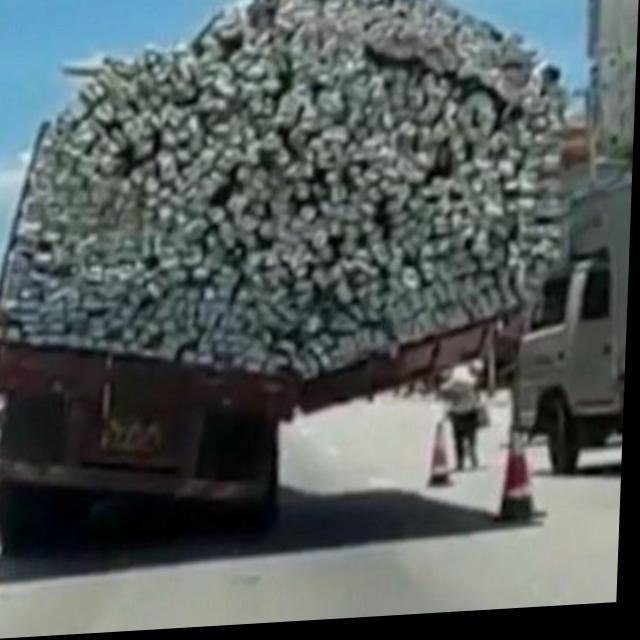uncovered: (12, 0, 572, 543)
